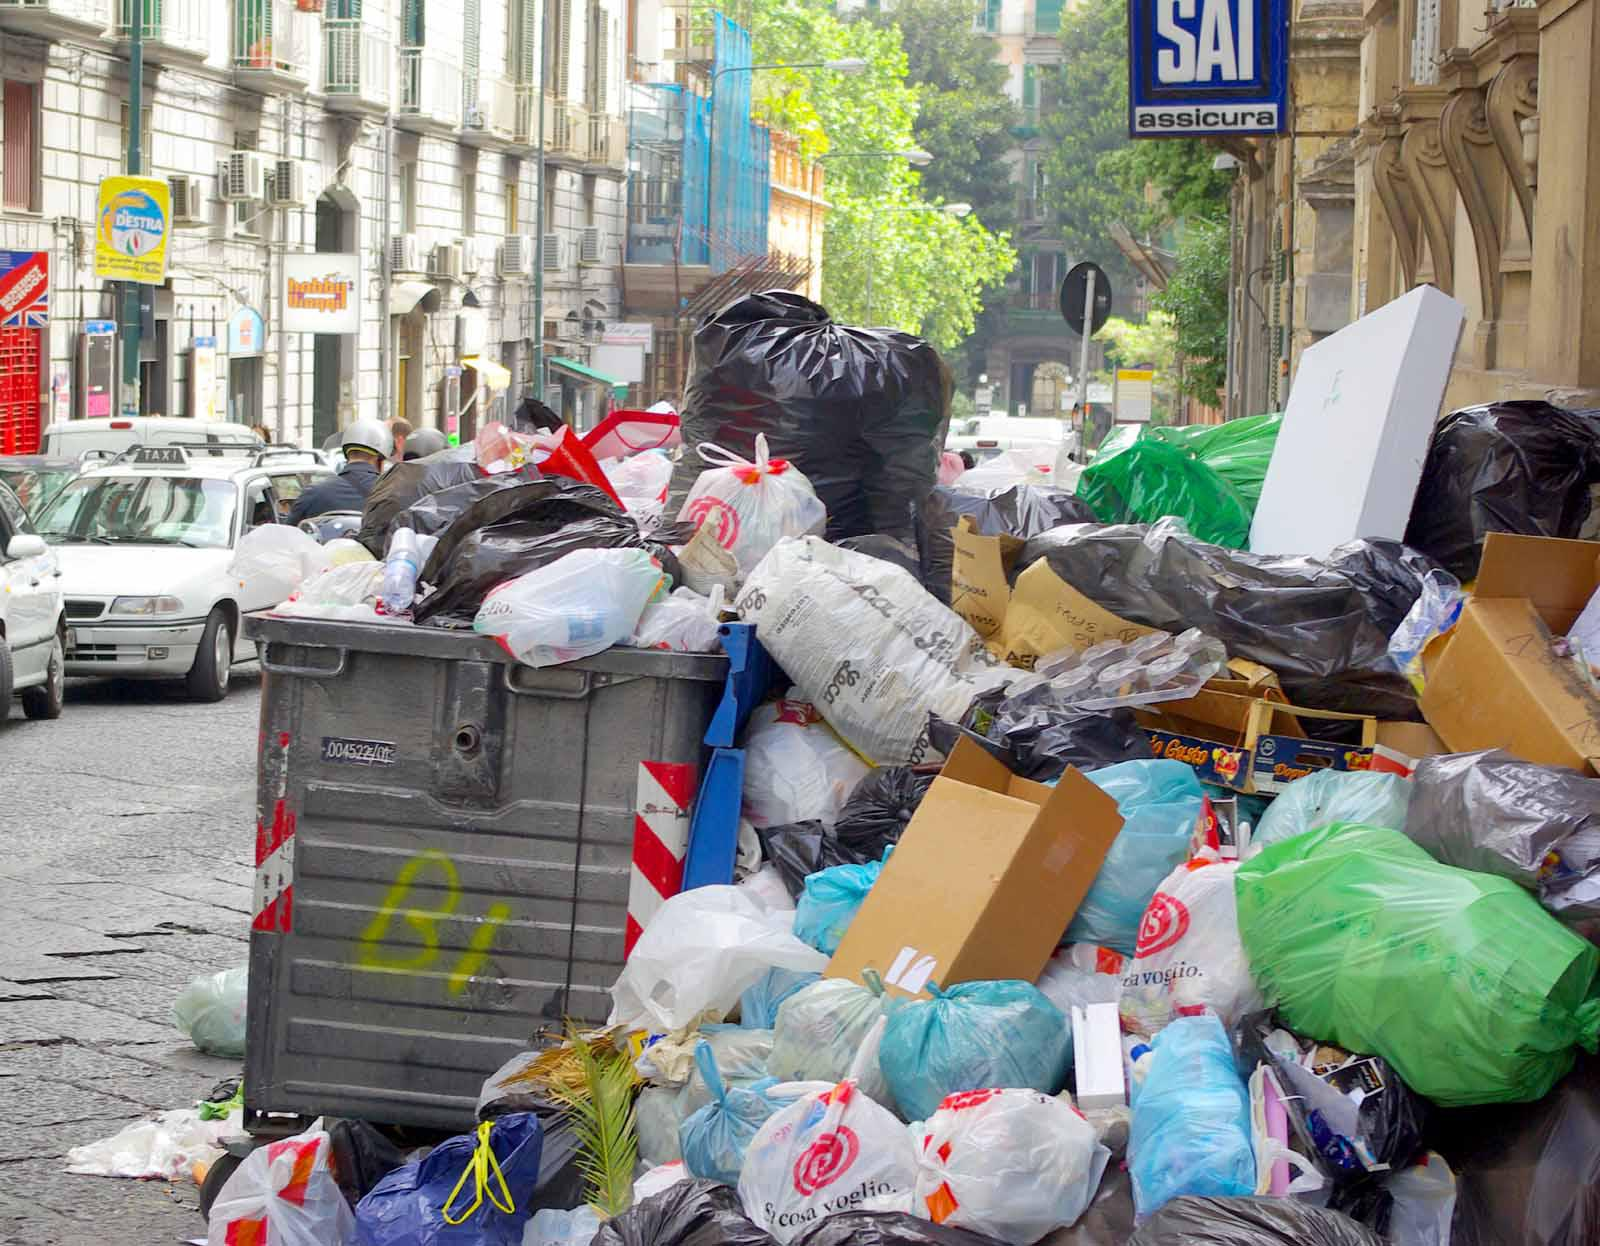Container: (246, 601, 713, 1155)
Garbage: (642, 890, 1600, 1246), (251, 441, 825, 643), (996, 511, 1443, 757), (1261, 838, 1600, 1139), (683, 281, 937, 571), (1046, 391, 1301, 559), (1424, 343, 1593, 594), (936, 408, 1089, 653), (308, 1111, 551, 1246), (688, 1073, 905, 1223), (1066, 736, 1211, 957), (411, 463, 609, 618), (661, 436, 843, 599), (1113, 1013, 1262, 1205), (887, 968, 1073, 1117), (937, 1087, 1113, 1241), (211, 1131, 391, 1246), (743, 703, 873, 841), (503, 558, 653, 661), (228, 528, 431, 604), (1109, 1206, 1421, 1246), (796, 978, 883, 1095)
